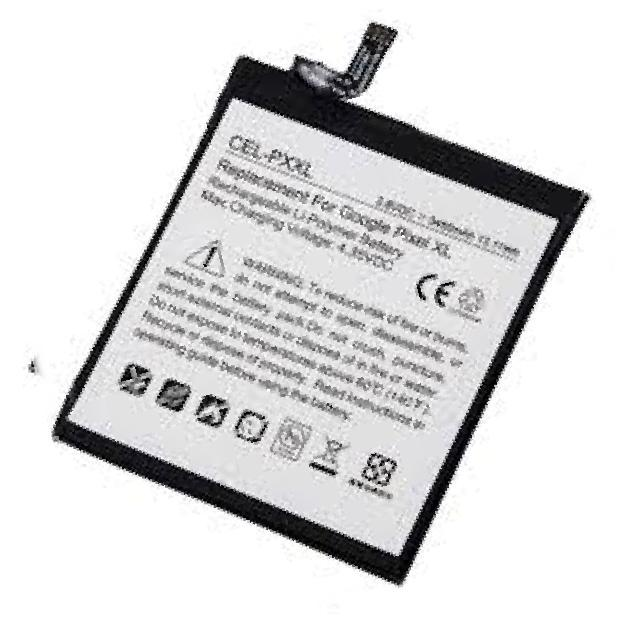Battery: (33, 4, 602, 596)
